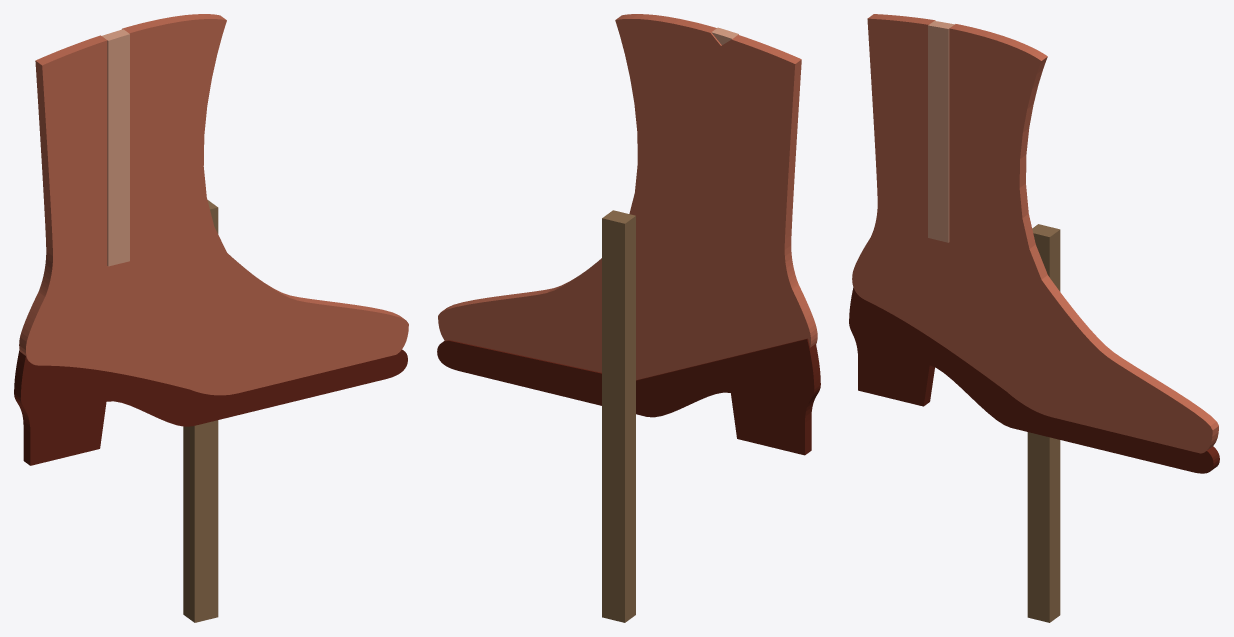
The model's file is bottes.glb.
3 renders of one model, left to right at view 1: azimuth 30°, elevation 25°; view 2: azimuth 150°, elevation 25°; view 3: azimuth 330°, elevation 25°, orthographic. The views are drawn at different scales.
Size of the model in its own units: 0.9889 by 1.5 by 0.093.
